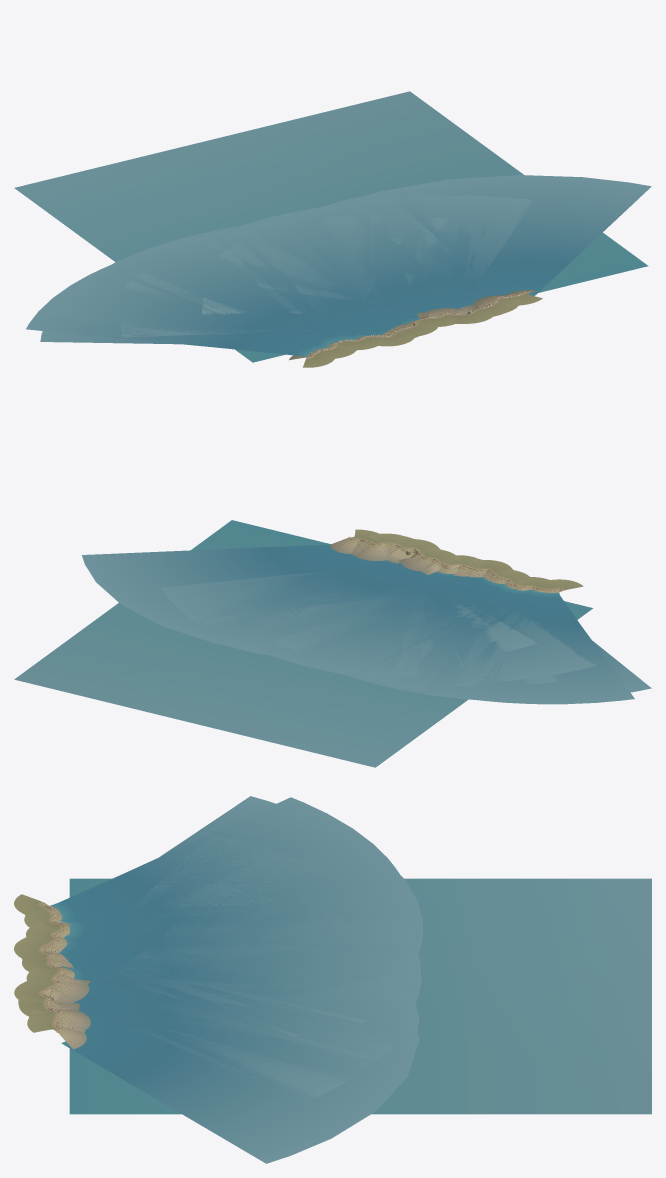
File: lisbon.glb
3 renders of one model, top to bottom at view 1: azimuth 30°, elevation 25°; view 2: azimuth 150°, elevation 25°; view 3: azimuth 270°, elevation 25°, orthographic. The views are drawn at different scales.
Parts seen in each view (by area): view 1: Sea, Land_005, Land_004, Land_000, Land_002, Land_003; view 2: Sea, Land_005, Land_006, Land_004, Land_003, Land_002, Land_000; view 3: Sea, Land_004, Land_006, Land_005, Land_000, Land_002, Land_003, Peaks, Land_001.
Boxes of the visible parts, x1,y1,x2,y2 form: Sea: (14, 91, 651, 362); Land_005: (459, 298, 520, 317); Land_004: (425, 308, 492, 327); Land_000: (289, 342, 356, 367); Land_002: (365, 328, 416, 346); Land_003: (394, 312, 437, 336); Sea: (14, 520, 651, 767); Land_005: (371, 533, 417, 563); Land_006: (329, 529, 381, 560); Land_004: (400, 539, 455, 571); Land_003: (422, 555, 478, 576); Land_002: (464, 559, 514, 581); Land_000: (515, 577, 583, 592); Sea: (50, 796, 651, 1163); Land_004: (14, 969, 89, 1001); Land_006: (27, 1011, 90, 1049); Land_005: (18, 994, 88, 1018); Land_000: (14, 894, 64, 930); Land_002: (14, 935, 69, 962); Land_003: (22, 959, 90, 984); Peaks: (45, 904, 77, 1041); Land_001: (26, 923, 69, 945).
Size of the model in its own units: 15767 by 4813 by 11558.
